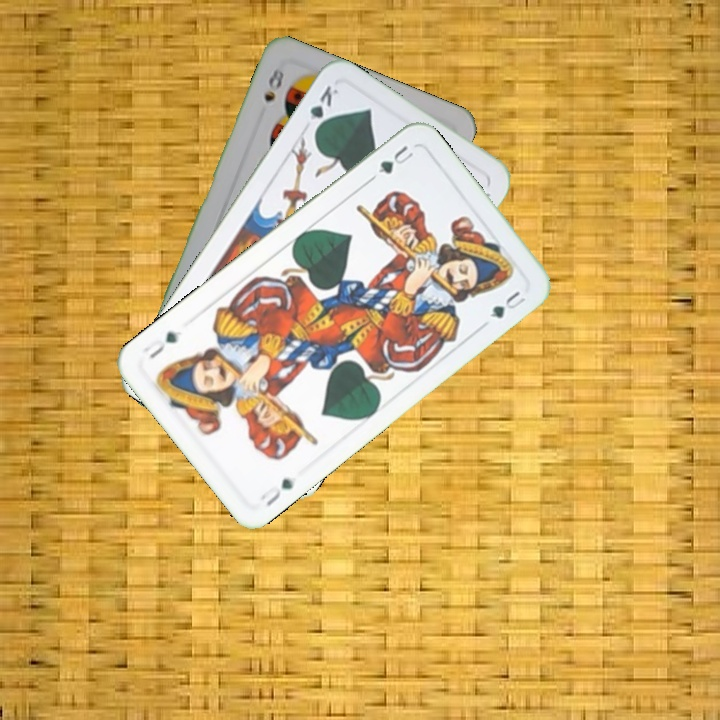GK: (304, 81, 341, 137)
GU: (373, 141, 416, 177), (255, 474, 296, 509)
S8: (260, 62, 287, 105)
